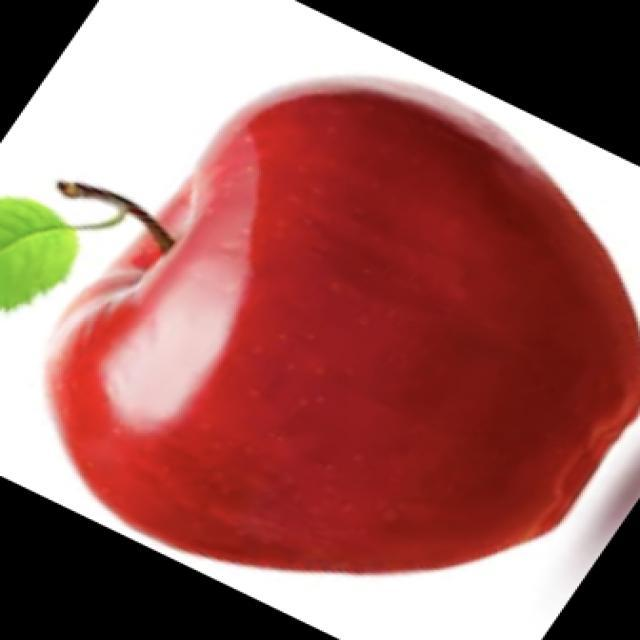Fresh Apple: (73, 88, 640, 588)
